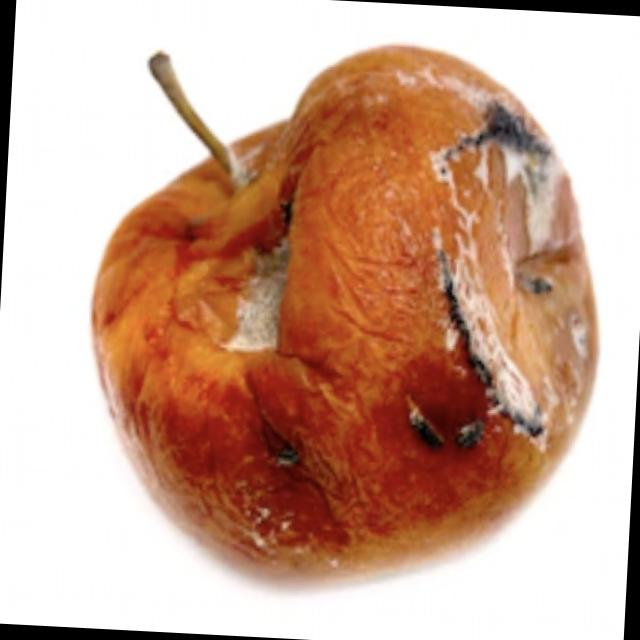rotten_apple: (83, 12, 612, 604)
